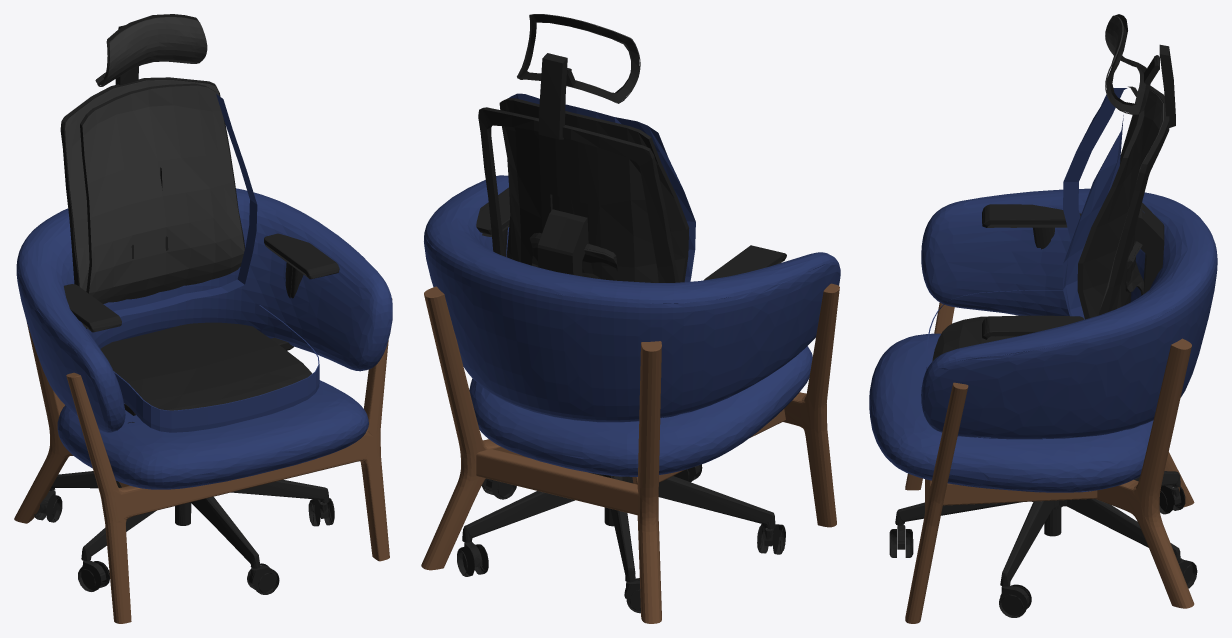
File: chairs.glb
3 views of the same model, side by side, from view 1: azimuth 30°, elevation 25°; view 2: azimuth 150°, elevation 25°; view 3: azimuth 270°, elevation 25° (orthographic). The views are drawn at different scales.
Parts seen in each view (by area): view 1: Roundish_fabric, Sava_mesh, Renya_plastic, Roundish_wood, Sava_plastic, Renya_fabric, Sava_fabric; view 2: Roundish_fabric, Renya_plastic, Roundish_wood, Sava_plastic, Renya_fabric; view 3: Roundish_fabric, Renya_plastic, Roundish_wood, Sava_plastic, Renya_fabric, Sava_mesh.
Boxes of the visible parts, x1,y1,x2,y2 form: Roundish_fabric: (16, 188, 392, 489); Sava_mesh: (64, 17, 244, 303); Renya_plastic: (34, 83, 339, 594); Roundish_wood: (14, 275, 392, 623); Sava_plastic: (34, 14, 338, 594); Renya_fabric: (113, 94, 319, 428); Sava_fabric: (136, 359, 319, 432); Roundish_fabric: (424, 175, 840, 476); Renya_plastic: (457, 98, 786, 613); Roundish_wood: (421, 283, 839, 623); Sava_plastic: (457, 14, 785, 612); Renya_fabric: (509, 93, 695, 281); Roundish_fabric: (869, 188, 1217, 492); Renya_plastic: (889, 86, 1196, 617); Roundish_wood: (905, 302, 1194, 623); Sava_plastic: (889, 14, 1197, 617); Renya_fabric: (926, 88, 1127, 360); Sava_mesh: (1100, 15, 1163, 309).
Bounding box in the file's own units: 0.8812 × 1.3 × 0.7799.
